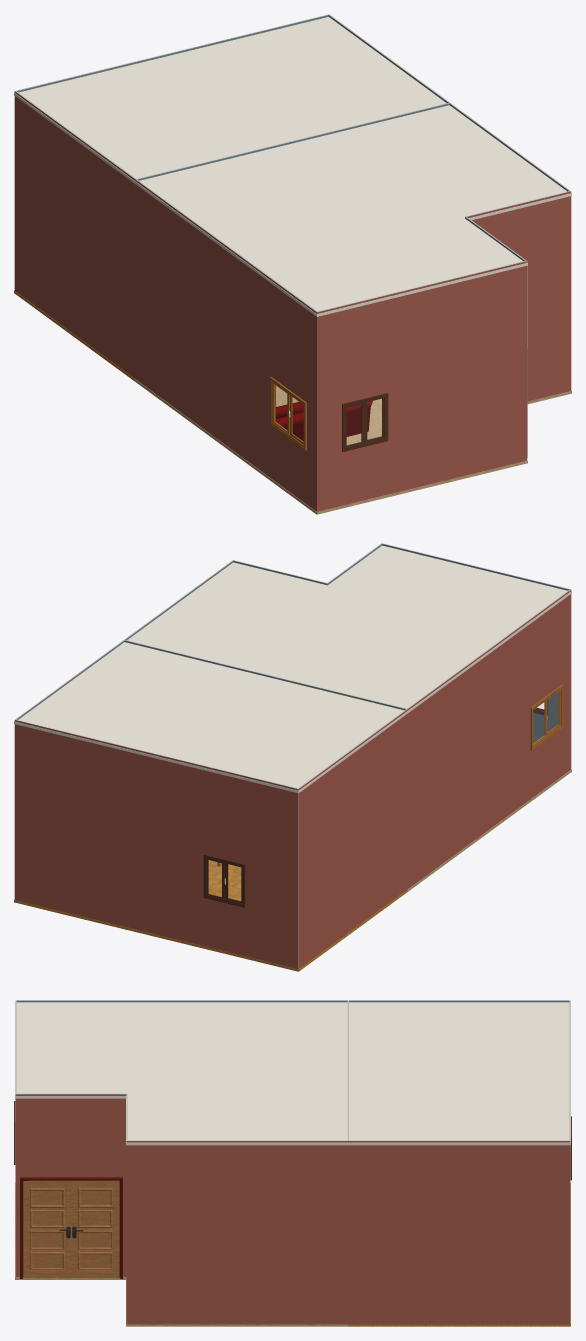
Rendered from ProcTHOR-Train-74.glb.
The picture shows the model from 3 angles, top to bottom: view 1: azimuth 30°, elevation 25°; view 2: azimuth 150°, elevation 25°; view 3: azimuth 270°, elevation 25°; orthographic projection. The views are drawn at different scales.
Visible parts, largest first — view 1: Ceiling#room|3|c, WallInside#wall|exterior|2.10|10.51|6.30|10.51, Ceiling#room|2|c, WallInside#wall|exterior|6.30|4.20|6.30|10.51, WallInside#wall|exterior|6.30|0.00|6.30|4.20, WallInside#wall|exterior|0.00|8.40|2.10|8.40, Floor#room|3|f, Window_Slider_36x36, Sofa_205_2, Window_Slider_48x36, WallInside#wall|2|0.00|0.00|6.30|0.00, WallInside#wall|3|0.00|4.20|6.30|4.20; view 2: WallInside#wall|exterior|0.00|0.00|6.30|0.00, Ceiling#room|3|c, Ceiling#room|2|c, WallInside#wall|exterior|6.30|4.20|6.30|10.51, WallInside#wall|exterior|6.30|0.00|6.30|4.20, Floor#room|2|f, WallInside#wall|3|2.10|10.51|6.30|10.51, Window_Slider_36x36, Window_Slider_48x36, WallInside#wall|2|0.00|4.20|6.30|4.20, Floor#room|3|f; view 3: Ceiling#room|3|c, WallInside#wall|exterior|0.00|0.00|0.00|4.20, WallInside#wall|exterior|0.00|4.20|0.00|8.40, Ceiling#room|2|c, WallInside#wall|exterior|2.10|8.40|2.10|10.51, Doorway_Door_7a, Doorway_Door_7b, Doorway_Double_7, Floor#room|3|f, WallInside#wall|3|6.30|4.20|6.30|10.51, Floor#room|2|f, WallInside#wall|2|6.30|0.00|6.30|4.20.
Part boxes in pixels (x1,y1,x2,y2): Ceiling#room|3|c: (134,105,571,316); WallInside#wall|exterior|2.10|10.51|6.30|10.51: (317,261,526,511); Ceiling#room|2|c: (14,17,448,183); WallInside#wall|exterior|6.30|4.20|6.30|10.51: (135,179,316,511); WallInside#wall|exterior|6.30|0.00|6.30|4.20: (14,91,135,378); WallInside#wall|exterior|0.00|8.40|2.10|8.40: (467,191,571,401); Floor#room|3|f: (134,379,571,514); Window_Slider_36x36: (342,393,388,451); Sofa_205_2: (276,401,372,441); Window_Slider_48x36: (270,377,306,450); WallInside#wall|2|0.00|0.00|6.30|0.00: (15,14,329,92); WallInside#wall|3|0.00|4.20|6.30|4.20: (136,103,449,180); WallInside#wall|exterior|0.00|0.00|6.30|0.00: (14,719,298,969); Ceiling#room|3|c: (124,545,571,713); Ceiling#room|2|c: (14,642,407,793); WallInside#wall|exterior|6.30|4.20|6.30|10.51: (408,589,571,888); WallInside#wall|exterior|6.30|0.00|6.30|4.20: (298,709,407,968); Floor#room|2|f: (14,860,407,971); WallInside#wall|3|2.10|10.51|6.30|10.51: (381,543,569,742); Window_Slider_36x36: (203,854,245,907); Window_Slider_48x36: (530,684,563,750); WallInside#wall|2|0.00|4.20|6.30|4.20: (124,640,406,710); Floor#room|3|f: (407,769,571,891); Ceiling#room|3|c: (15,1002,349,1145); WallInside#wall|exterior|0.00|0.00|0.00|4.20: (348,1141,570,1324); WallInside#wall|exterior|0.00|4.20|0.00|8.40: (126,1141,348,1324); Ceiling#room|2|c: (347,1002,570,1145); WallInside#wall|exterior|2.10|8.40|2.10|10.51: (15,1094,126,1277); Doorway_Door_7a: (71,1180,119,1277); Doorway_Door_7b: (23,1180,71,1277); Doorway_Double_7: (20,1177,122,1278); Floor#room|3|f: (15,1183,349,1326); WallInside#wall|3|6.30|4.20|6.30|10.51: (16,1000,347,1002); Floor#room|2|f: (347,1183,570,1326); WallInside#wall|2|6.30|0.00|6.30|4.20: (349,1000,569,1002).
Size of what is drawn, in the model's own units: 6.36 by 3.88 by 10.59.
Materials: 160 (60 with a texture image).
